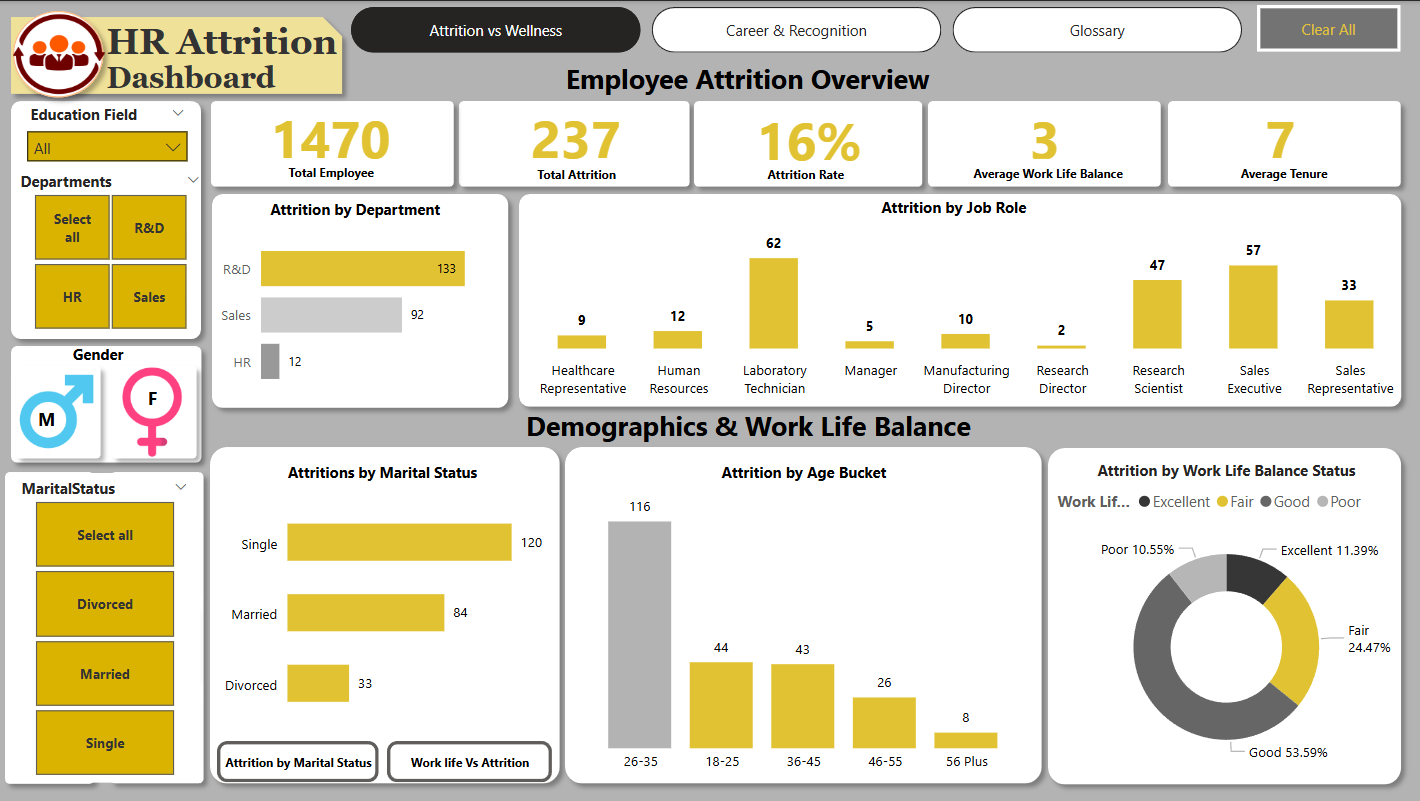

What the dashboard file says about the page in this screenshot:
{"tool":"powerbi","page":{"name":"Attrition vs Wellness","canvas":[1280,720],"ordinal":0},"visuals":[{"type":"shape","box":[0,413.9,97.9,298.1],"z":0},{"type":"shape","box":[94.5,414,102,297.5],"z":1000},{"type":"textbox","box":[0,422.8,100.5,31.4],"z":2000},{"type":"textbox","box":[100.5,422.8,84.4,33.2],"z":3000},{"type":"shape","box":[7,453.5,87,86.5],"z":4000},{"type":"shape","box":[100.5,454.5,87,86.5],"z":5000},{"type":"shape","box":[7.5,532,87,86.5],"z":6000},{"type":"shape","box":[101,533,87,86.5],"z":7000},{"type":"shape","box":[7,615,87,86.5],"z":8000},{"type":"shape","box":[100.5,616,87,86.5],"z":9000},{"type":"shape","box":[5.4,300.7,189.4,123],"z":10000},{"type":"shape","box":[10,318.5,94,101],"z":11000},{"type":"shape","box":[96.5,318.5,94,101],"z":12000},{"type":"shape","box":[5.4,80.8,188.5,231.6],"z":13000},{"type":"shape","box":[408,81,225,95],"z":14000},{"type":"shape","box":[619,81,223,95],"z":15000},{"type":"shape","box":[829,81,227,95],"z":16000},{"type":"shape","box":[1044,81,227,95],"z":17000},{"type":"shape","box":[185,81,236,95],"z":18000},{"type":"shape","box":[184,391,332,320],"z":19000},{"type":"shape","box":[503,391,446,320],"z":20000},{"type":"shape","box":[936,392,335,320],"z":21000},{"type":"shape","box":[461,164,810,209],"z":22000},{"type":"shape","box":[186,164,284,210],"z":23000},{"type":"shape","box":[5.7,5.7,315.7,87.1],"z":24000},{"type":"card","title":"Attrition Rate","fields":{"Values":["HR.Total Attrition Rate"]},"box":[673.3,96.1,114.9,53.9],"z":25000},{"type":"card","title":"Total Employees","fields":{"Values":["HR.Total Employees"]},"box":[232,90,139,64],"z":26000},{"type":"card","title":"Total Attrition","fields":{"Values":["HR.Attrition count"]},"box":[461,96,120,52],"z":27000},{"type":"barChart","title":"Attrition by Department","fields":{"Category":["HR.Department"],"Y":["HR.Attrition count"]},"box":[195,178,257,185],"z":28000},{"type":"columnChart","title":"Attrition by Job Role","fields":{"Category":["HR.JobRole"],"Y":["HR.Attrition count"]},"box":[442,175.6,838,187.1],"z":29000},{"type":"textbox","box":[95.6,13.8,225.2,81.8],"z":30000},{"type":"shape","box":[6.9,0,99.4,95.9],"z":31000},{"type":"barChart","title":"Attritions by Marital Status","fields":{"Category":["HR.MaritalStatus"],"Y":["All Measures.Total Attritions"]},"box":[196.5,414.2,302.4,250],"z":32000},{"type":"columnChart","title":"Attrition by Age Bucket","fields":{"Y":["All Measures.Total Attritions"],"Category":["HR.Age Bucket"]},"box":[516,414,420,287],"z":33000},{"type":"textbox","box":[451.7,358.7,449.5,53.8],"z":35000},{"type":"textbox","box":[481.2,47.5,388.8,50],"z":36000},{"type":"image","box":[8.6,2.9,97.1,90],"z":37000},{"type":"pageNavigator","box":[320,5,800,41.2],"z":38000},{"type":"actionButton","box":[199.6,664.2,146.1,37.3],"z":39000},{"type":"actionButton","box":[351.7,664.2,149.2,37.3],"z":40000},{"type":"actionButton","box":[1133.4,3.2,128.5,42.5],"z":41000},{"type":"donutChart","title":"Attrition by Work Life Balance Status","fields":{"Category":["HR.Work Life Balance Status"],"Y":["HR.Attrition count"]},"box":[949,412,313,290],"z":42000},{"type":"card","title":"Average Work Life Balance","fields":{"Values":["HR.Avg work life balance"]},"box":[894,99,97,48],"z":43000},{"type":"card","title":"Average Tenure","fields":{"Values":["HR.Avg Years at Company"]},"box":[1113,97,81,50],"z":44000},{"type":"image","box":[103.2,463.2,79,69.1],"z":45000},{"type":"image","box":[10.4,324,88.7,89.7],"z":46000},{"type":"image","box":[103.2,621.2,79,69.1],"z":47000},{"type":"image","box":[96.1,324,89.7,89.7],"z":48000},{"type":"image","box":[104.1,539.6,79,70],"z":49000},{"type":"image","box":[7.2,538.7,82.6,71.8],"z":50000},{"type":"image","box":[7,621,75.5,73],"z":51000},{"type":"image","box":[8.1,461.4,79.9,70.9],"z":52000},{"type":"textbox","box":[57.5,303.4,70,29.6],"z":57000},{"type":"textbox","box":[118.5,673.3,50.3,34.1],"z":58000},{"type":"textbox","box":[29.9,359.2,33.2,35.9],"z":59000},{"type":"textbox","box":[125.1,340.4,33.2,35.9],"z":60000},{"type":"textbox","box":[250,139.3,104.3,30],"z":61000},{"type":"textbox","box":[470,140.7,103.6,30],"z":62000},{"type":"textbox","box":[675.7,140.7,103.6,30],"z":63000},{"type":"textbox","box":[865.7,140,160,30],"z":64000},{"type":"textbox","box":[1105,140,104.3,30],"z":65000},{"type":"slicer","fields":{"Values":["HR.EducationField"]},"box":[18.4,87.7,163.5,89.9],"z":66000},{"type":"slicer","fields":{"Values":["HR.MaritalStatus"]},"box":[10.8,423.7,174.2,278.3],"z":67000},{"type":"slicer","fields":{"Values":["HR.Department"]},"box":[9.7,148.4,186.3,152.7],"z":68000}]}

Visuals, with their boxes in screenshot pixels (x1, y1, x2, y2), scaled from the page's 1280x720 canvas onto the 1420x801 screenshot:
shape: 0,460,109,792
shape: 105,461,218,792
textbox: 0,470,111,505
textbox: 111,470,205,507
shape: 8,505,104,601
shape: 111,506,208,602
shape: 8,592,105,688
shape: 112,593,209,689
shape: 8,684,104,780
shape: 111,685,208,782
shape: 6,335,216,471
shape: 11,354,115,467
shape: 107,354,211,467
shape: 6,90,215,348
shape: 453,90,702,196
shape: 687,90,934,196
shape: 920,90,1172,196
shape: 1158,90,1410,196
shape: 205,90,467,196
shape: 204,435,572,791
shape: 558,435,1053,791
shape: 1038,436,1410,792
shape: 511,182,1410,415
shape: 206,182,521,416
shape: 6,6,357,103
"Attrition Rate" card: 747,107,874,167
"Total Employees" card: 257,100,412,171
"Total Attrition" card: 511,107,645,165
"Attrition by Department" barChart: 216,198,501,404
"Attrition by Job Role" columnChart: 490,195,1419,404
textbox: 106,15,356,106
shape: 8,0,118,107
"Attritions by Marital Status" barChart: 218,461,553,739
"Attrition by Age Bucket" columnChart: 572,461,1038,780
textbox: 501,399,1000,459
textbox: 534,53,965,108
image: 10,3,117,103
pageNavigator: 355,6,1242,51
actionButton: 221,739,384,780
actionButton: 390,739,556,780
actionButton: 1257,4,1400,51
"Attrition by Work Life Balance Status" donutChart: 1053,458,1400,781
"Average Work Life Balance" card: 992,110,1099,164
"Average Tenure" card: 1235,108,1325,164
image: 114,515,202,592
image: 12,360,110,460
image: 114,691,202,768
image: 107,360,206,460
image: 115,600,203,678
image: 8,599,100,679
image: 8,691,92,772
image: 9,513,98,592
textbox: 64,338,141,370
textbox: 131,749,187,787
textbox: 33,400,70,440
textbox: 139,379,176,419
textbox: 277,155,393,188
textbox: 521,157,636,190
textbox: 750,157,865,190
textbox: 960,156,1138,189
textbox: 1226,156,1342,189
slicer - HR.EducationField: 20,98,202,198
slicer - HR.MaritalStatus: 12,471,205,781
slicer - HR.Department: 11,165,217,335
